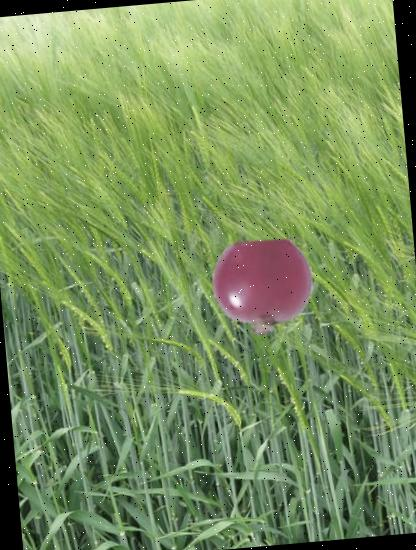Redcurrant: (210, 234, 318, 342)
